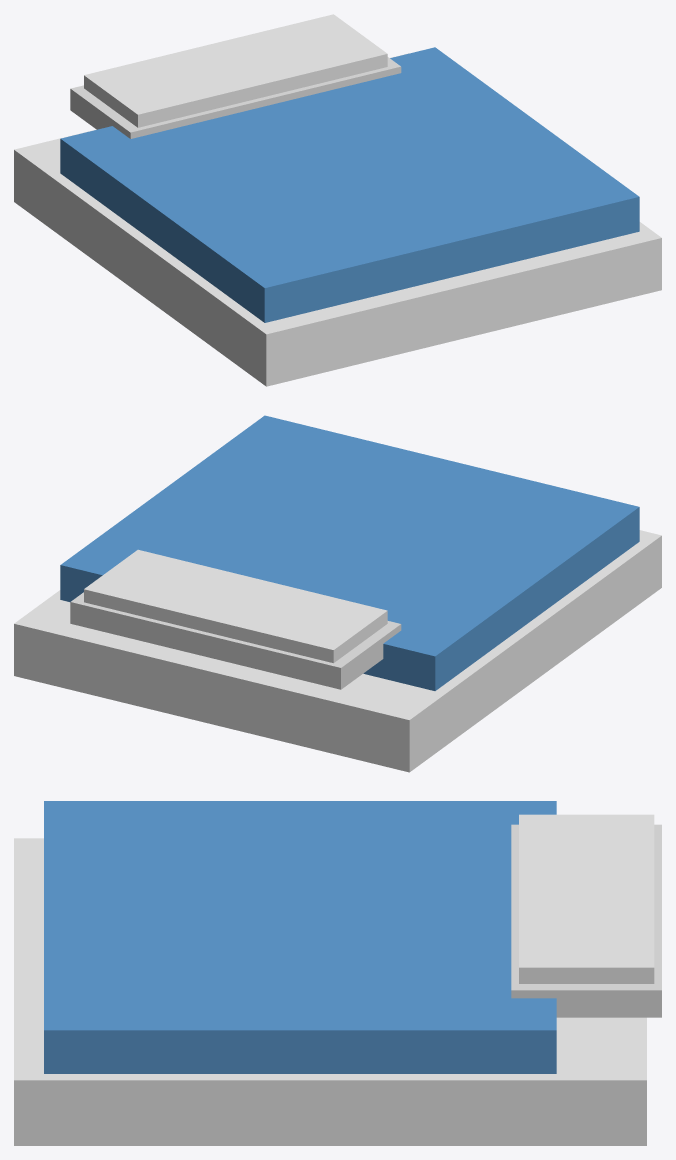
The model's file is shop-bed.glb.
3 renders of one model, top to bottom at view 1: azimuth 30°, elevation 25°; view 2: azimuth 150°, elevation 25°; view 3: azimuth 270°, elevation 25°, orthographic. The views are drawn at different scales.
Visible parts, largest first — view 1: Mattress, BedBase, Pillow, PillowEdge; view 2: Mattress, BedBase, Pillow, PillowEdge; view 3: Mattress, BedBase, Pillow, PillowEdge.
Part boxes in pixels (bbox=[...]): Mattress: bbox=[60, 47, 639, 322]; BedBase: bbox=[14, 53, 661, 386]; Pillow: bbox=[84, 14, 387, 127]; PillowEdge: bbox=[70, 57, 401, 138]; Mattress: bbox=[60, 415, 639, 690]; BedBase: bbox=[14, 530, 661, 772]; Pillow: bbox=[84, 549, 387, 663]; PillowEdge: bbox=[70, 592, 401, 689]; Mattress: bbox=[44, 801, 556, 1073]; BedBase: bbox=[14, 838, 646, 1145]; Pillow: bbox=[519, 814, 654, 983]; PillowEdge: bbox=[511, 824, 661, 1017].
Size of the model in its own units: 1.9 by 0.49 by 2.15.
